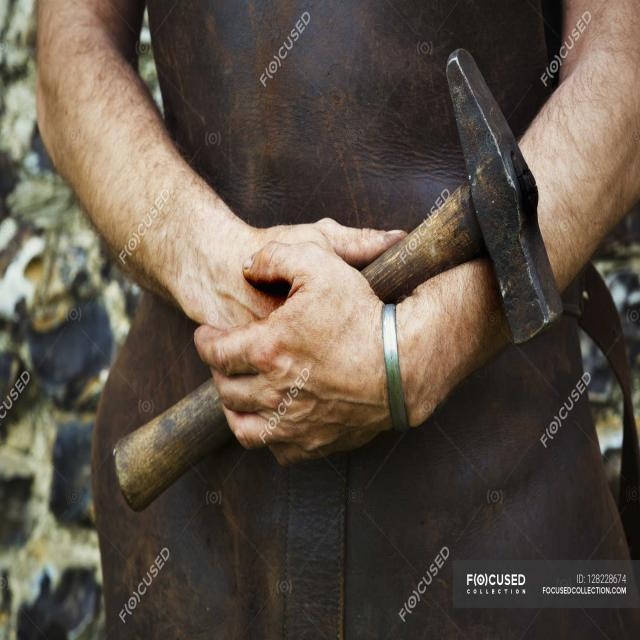hammer: (110, 42, 568, 520)
